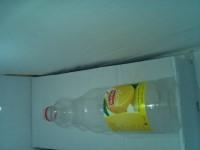bottle: (37, 76, 180, 138)
